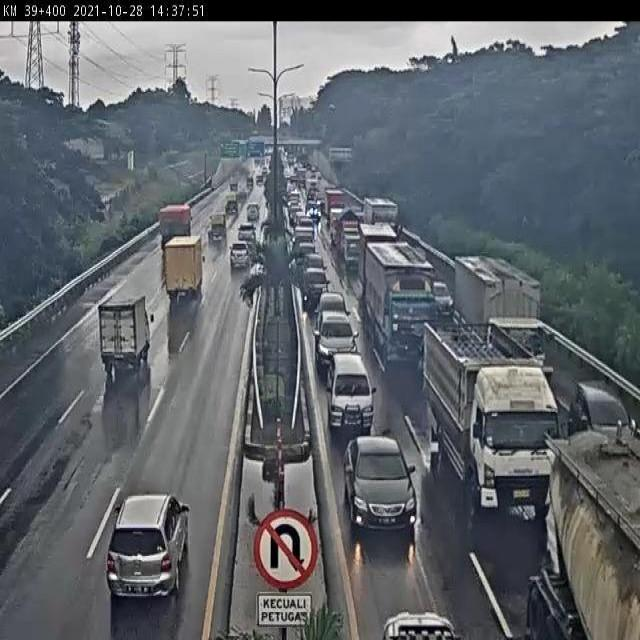big truck: (411, 314, 577, 534), (513, 404, 640, 640), (355, 228, 440, 373), (453, 249, 544, 380), (156, 198, 195, 245)
car: (96, 472, 198, 611), (343, 427, 424, 564), (563, 368, 640, 456), (324, 346, 376, 426), (358, 606, 465, 640), (310, 309, 365, 356), (298, 267, 333, 308), (426, 277, 455, 319), (228, 236, 248, 279), (318, 288, 348, 315), (236, 221, 258, 244)
small truck: (85, 281, 159, 376), (154, 230, 213, 306), (204, 209, 232, 243)
